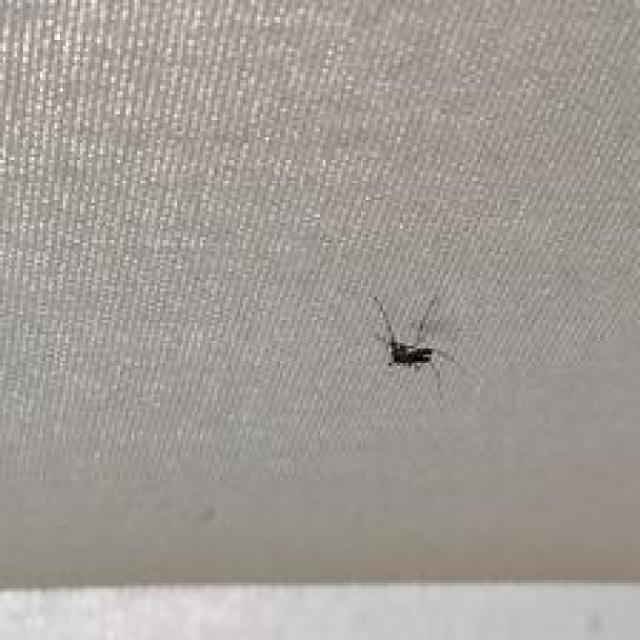Aedes albopictus: (370, 293, 456, 376)
